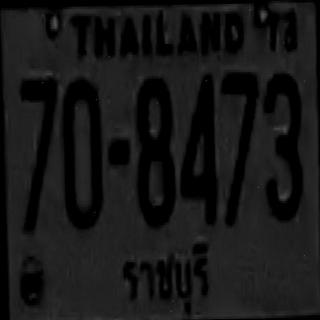N00: (60, 75, 101, 226)
N03: (262, 71, 301, 218)
N04: (177, 71, 216, 220)
N07: (19, 75, 58, 230), (220, 69, 259, 221)
N08: (134, 76, 173, 222)
P52: (118, 240, 214, 319)
